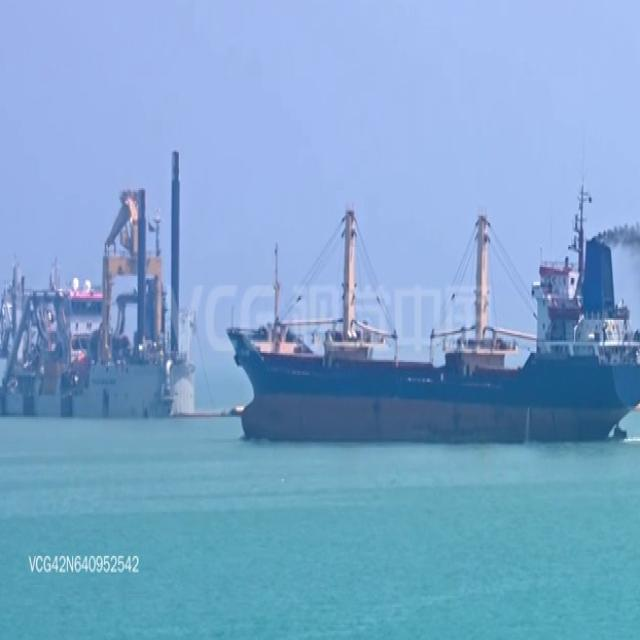cargoship: (226, 188, 640, 441), (0, 140, 194, 415)
